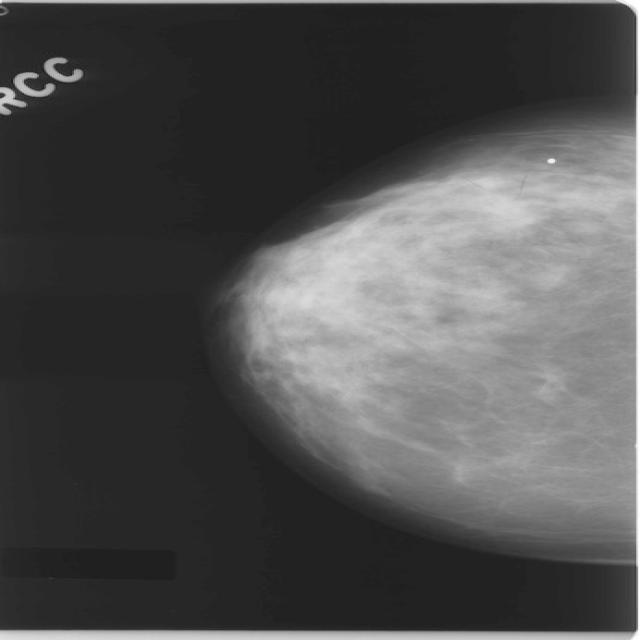tumour: (472, 193, 540, 235)
